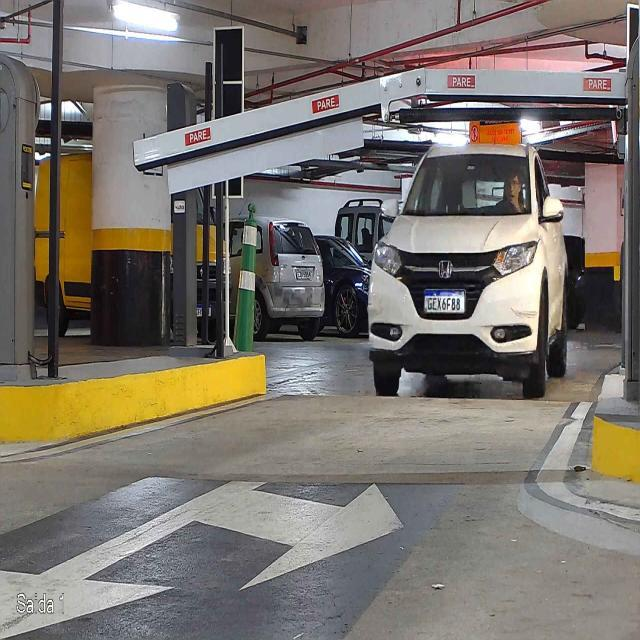mercosul_plate: (423, 288, 466, 314)
